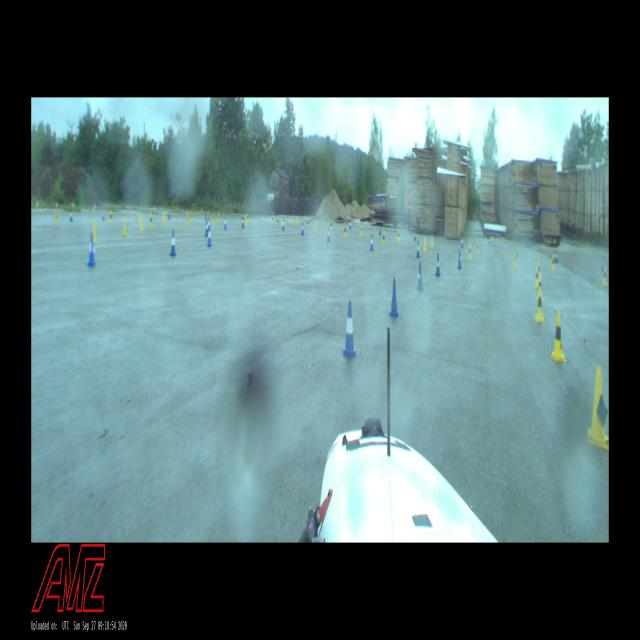blue_cone: (342, 302, 356, 357), (389, 280, 398, 317), (88, 236, 94, 264), (416, 264, 423, 287), (434, 254, 440, 276), (170, 231, 175, 255), (207, 226, 212, 246), (458, 251, 462, 269), (370, 234, 374, 250), (416, 241, 420, 257), (601, 254, 604, 270), (205, 222, 208, 236), (461, 235, 464, 248), (224, 217, 227, 230), (301, 222, 304, 234), (70, 210, 73, 222), (349, 219, 352, 229), (555, 250, 557, 263), (328, 227, 330, 240), (283, 219, 285, 231), (242, 217, 244, 228), (208, 217, 210, 227), (277, 214, 279, 223), (414, 231, 416, 239)
orange_cone: (36, 201, 38, 209)
yellow_cone: (588, 366, 608, 451), (550, 312, 566, 362), (534, 288, 544, 323), (537, 277, 543, 302), (602, 267, 608, 286), (93, 220, 97, 243), (123, 218, 127, 236), (551, 254, 555, 271), (513, 251, 517, 268), (162, 211, 166, 227), (536, 266, 539, 286), (382, 231, 386, 245), (510, 246, 514, 260), (109, 210, 113, 223), (140, 214, 143, 231), (468, 244, 471, 260), (538, 260, 540, 281), (54, 212, 58, 222), (397, 230, 400, 242), (431, 235, 434, 247), (476, 242, 479, 254), (212, 214, 215, 225), (150, 213, 152, 227), (424, 238, 426, 252), (344, 225, 346, 236), (330, 220, 332, 230), (218, 212, 220, 222), (360, 225, 362, 235), (309, 216, 311, 226), (187, 215, 189, 225), (315, 222, 317, 232), (281, 217, 283, 226), (246, 214, 248, 222), (272, 215, 274, 223), (296, 216, 298, 224), (190, 213, 192, 221)
